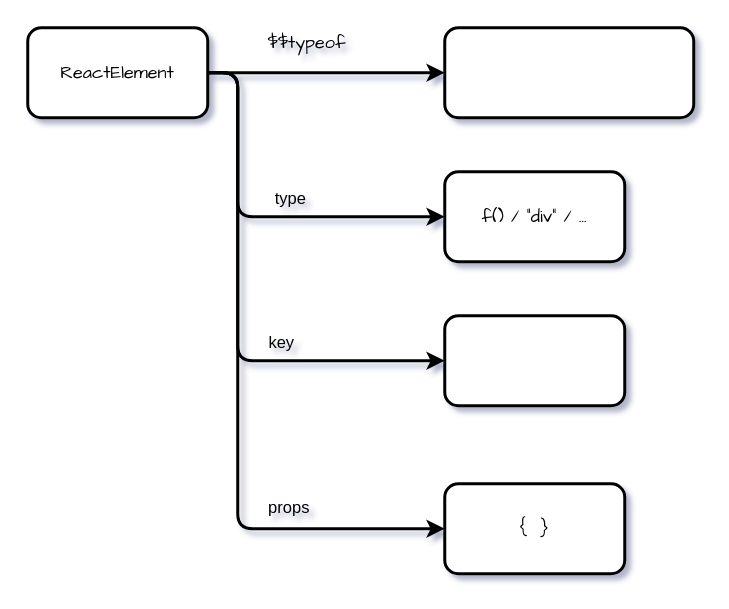
Image size: 729x609. Some labels were removed from this diagram. The shapes that lost their labels are listed below. From the top down, each one's centre as x and y in pixels, then its label:
At [568,72]: "REACT_ELEMENT_TYPE".
At [534,360]: "string".
